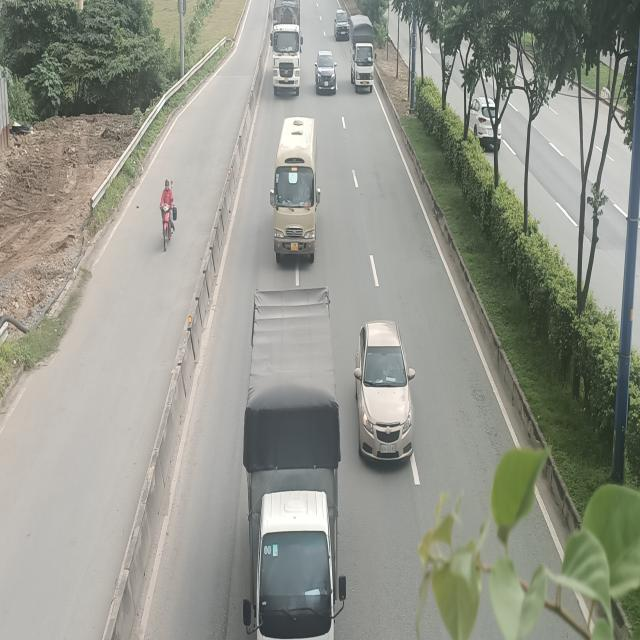car: (354, 320, 416, 464), (315, 50, 337, 96), (334, 8, 349, 42)
coach: (269, 118, 321, 262)
truck: (242, 288, 346, 640), (271, 0, 302, 94), (350, 15, 376, 92)
